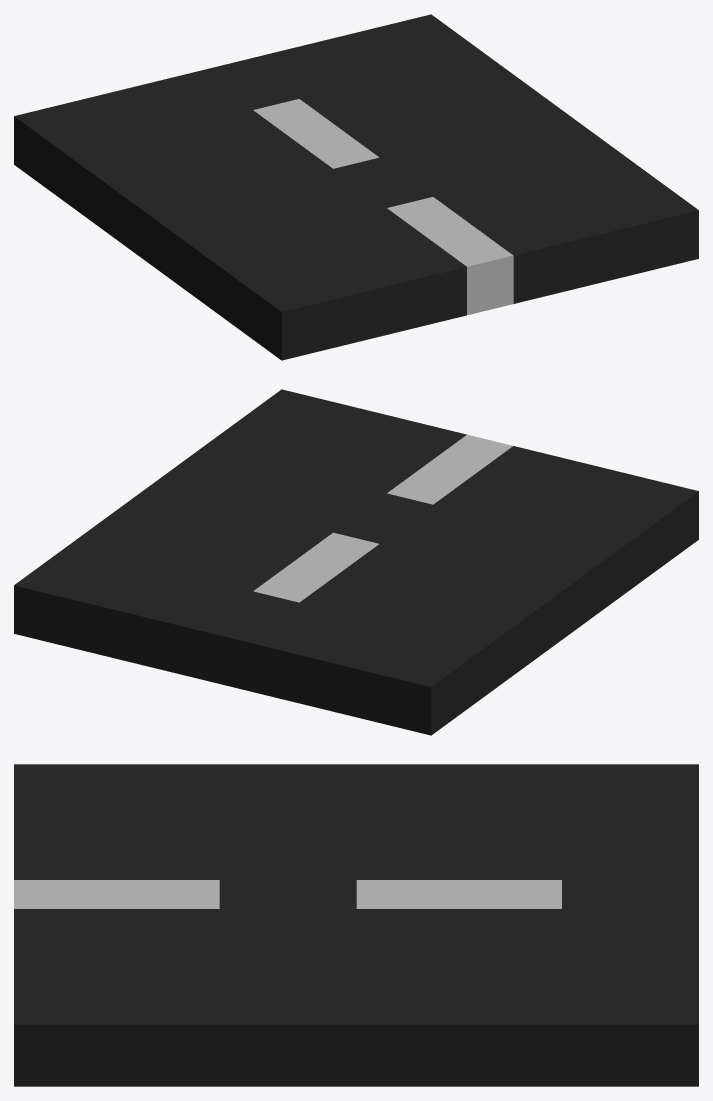
Rendered from floor01.fbx.
3 views of the same model, one above another, from view 1: azimuth 30°, elevation 25°; view 2: azimuth 150°, elevation 25°; view 3: azimuth 270°, elevation 25° (orthographic). The views are drawn at different scales.
Parts seen in each view (by area): view 1: Objekt; view 2: Objekt; view 3: Objekt.
Boxes of the visible parts, bbox=[...] form: Objekt: bbox=[14, 14, 698, 360]; Objekt: bbox=[14, 389, 698, 735]; Objekt: bbox=[14, 764, 698, 1086].
Size of the model in its own units: 9 by 1 by 10.
1 material, 1 textured.
